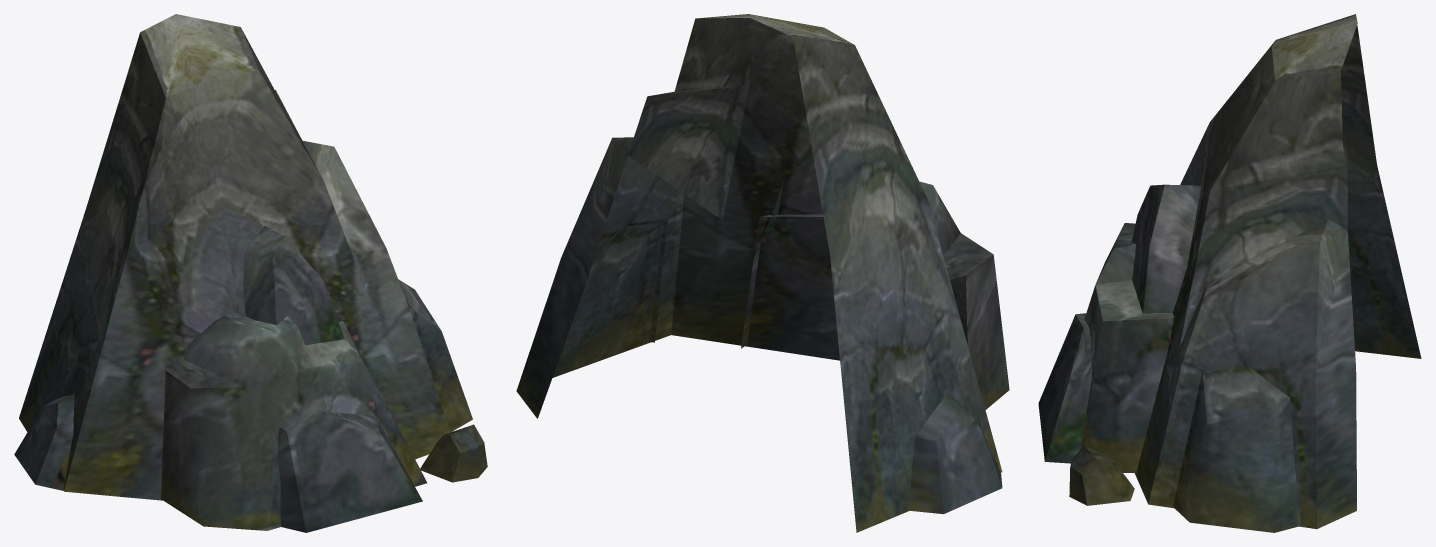
File: yw_xingzilin_pinjieshi03.FBX
3 views of the same model, side by side, from view 1: azimuth 30°, elevation 25°; view 2: azimuth 150°, elevation 25°; view 3: azimuth 270°, elevation 25° (orthographic). The views are drawn at different scales.
Parts seen in each view (by area): view 1: yw_xingzilin_pinjieshi03; view 2: yw_xingzilin_pinjieshi03; view 3: yw_xingzilin_pinjieshi03.
Part boxes in pixels (box(x1,y1,x2,y2)): yw_xingzilin_pinjieshi03: box(14, 14, 487, 532); yw_xingzilin_pinjieshi03: box(516, 14, 1009, 532); yw_xingzilin_pinjieshi03: box(1038, 14, 1421, 532).
Bounding box in the file's own units: 259 × 237 × 207.
